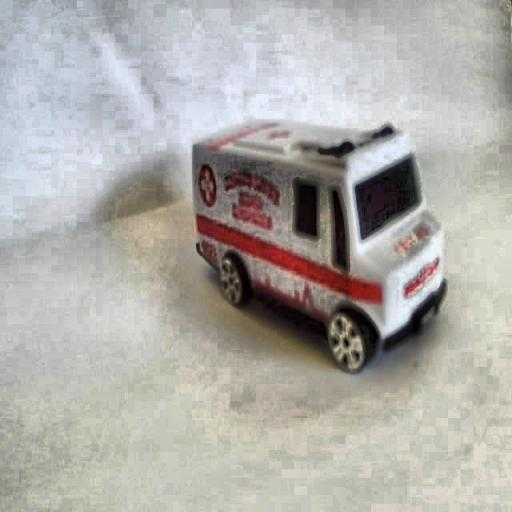ambulance: (192, 118, 446, 374)
